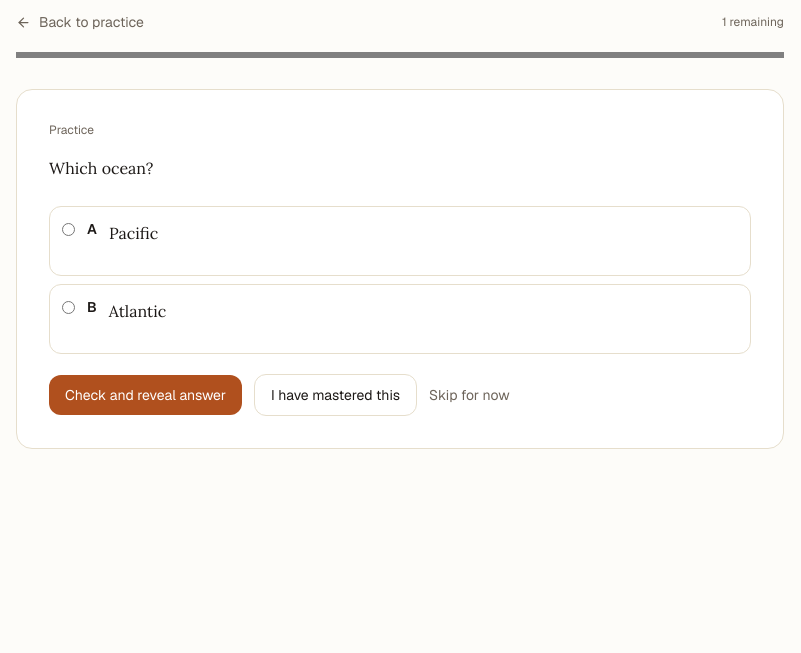
does not allow a success rating when the server marked the answer wrong
Click the radio button labelled "A Pacific": (68, 230) [62,223,75,236]
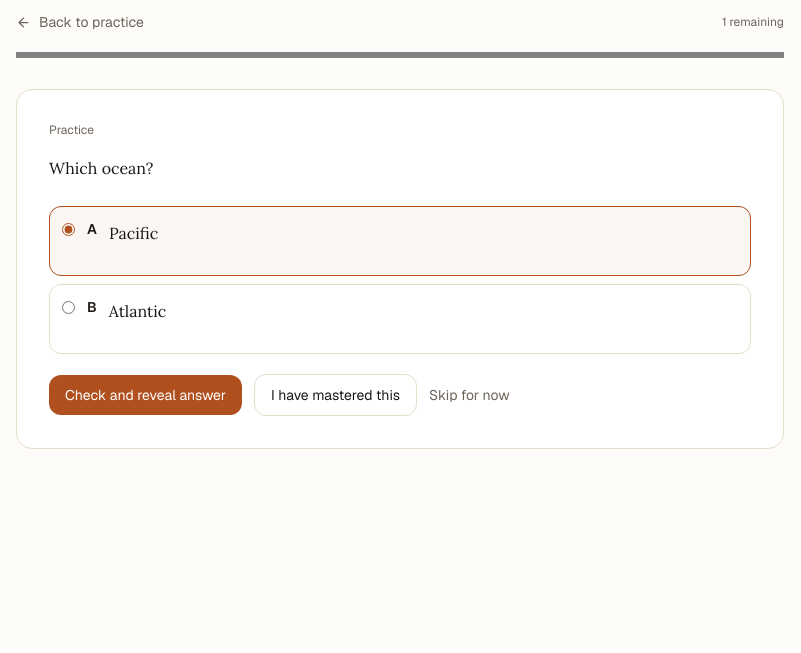
Click the button "Check and reveal answer": (146, 395) [49,375,242,415]
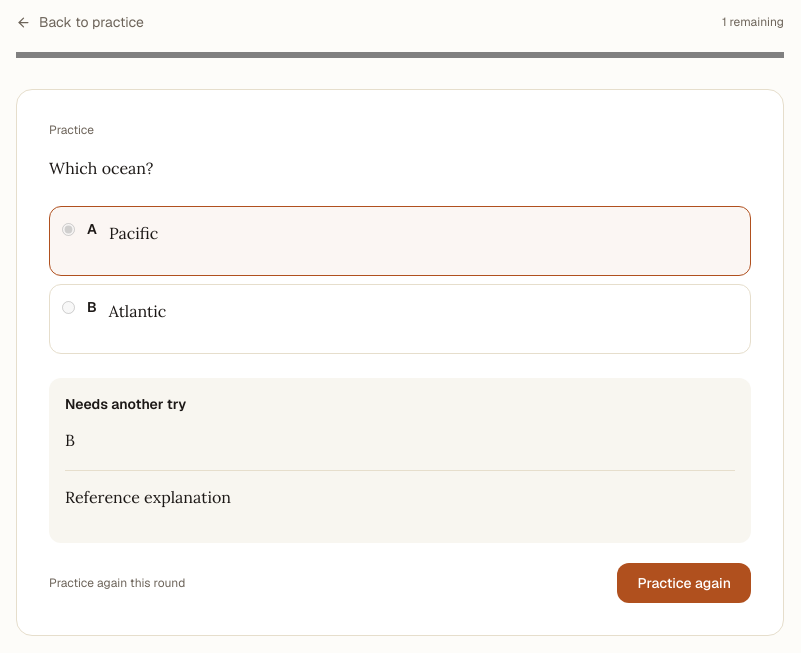
Check: the text "Needs another try" is shown, box [65,395,186,413]
Check: the button "Practice again" is enabled, box [617,563,751,603]
